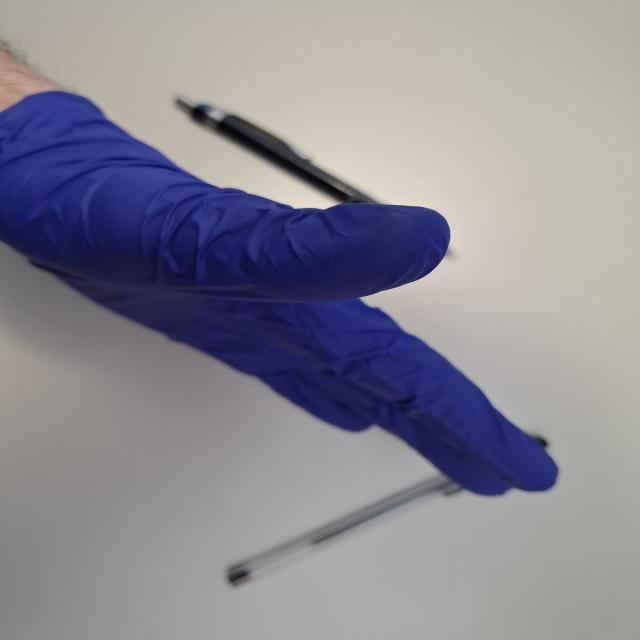glove_on: (0, 82, 564, 498)
